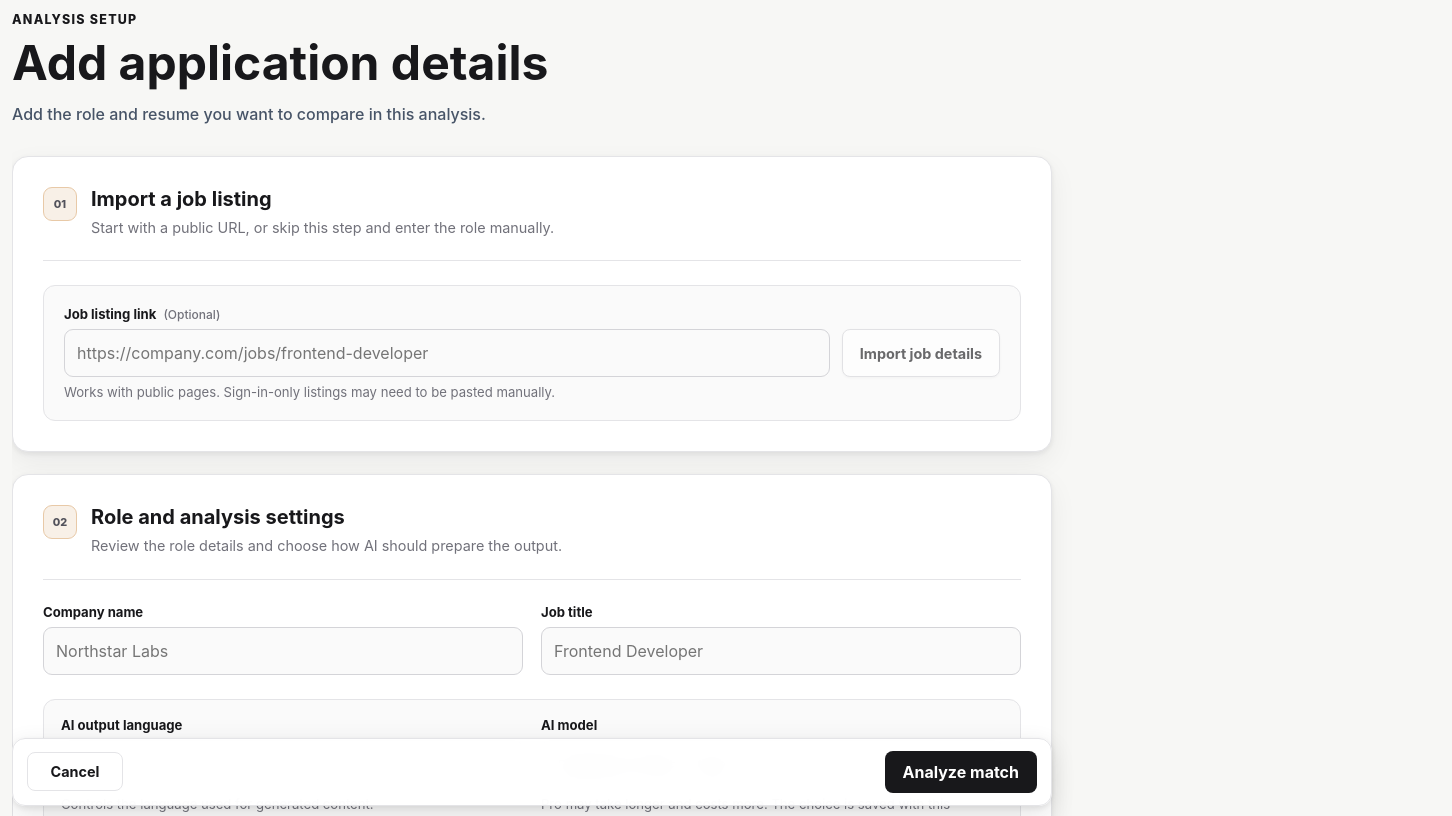
Scenario: NewApplicationPage › imports job details for review without starting an analysis
This screenshot has width=1452, height=816.
Check: the heading "Import a job listing" is shown, box x1=91 y1=187 x2=272 y2=211
Check: the heading "Role and analysis settings" is shown, box x1=91 y1=505 x2=345 y2=529
Type "https://jobs.example.com/frontend-developer" into the field labelled "Job listing link (Optional)" at (447, 353), box x1=64 y1=329 x2=830 y2=377
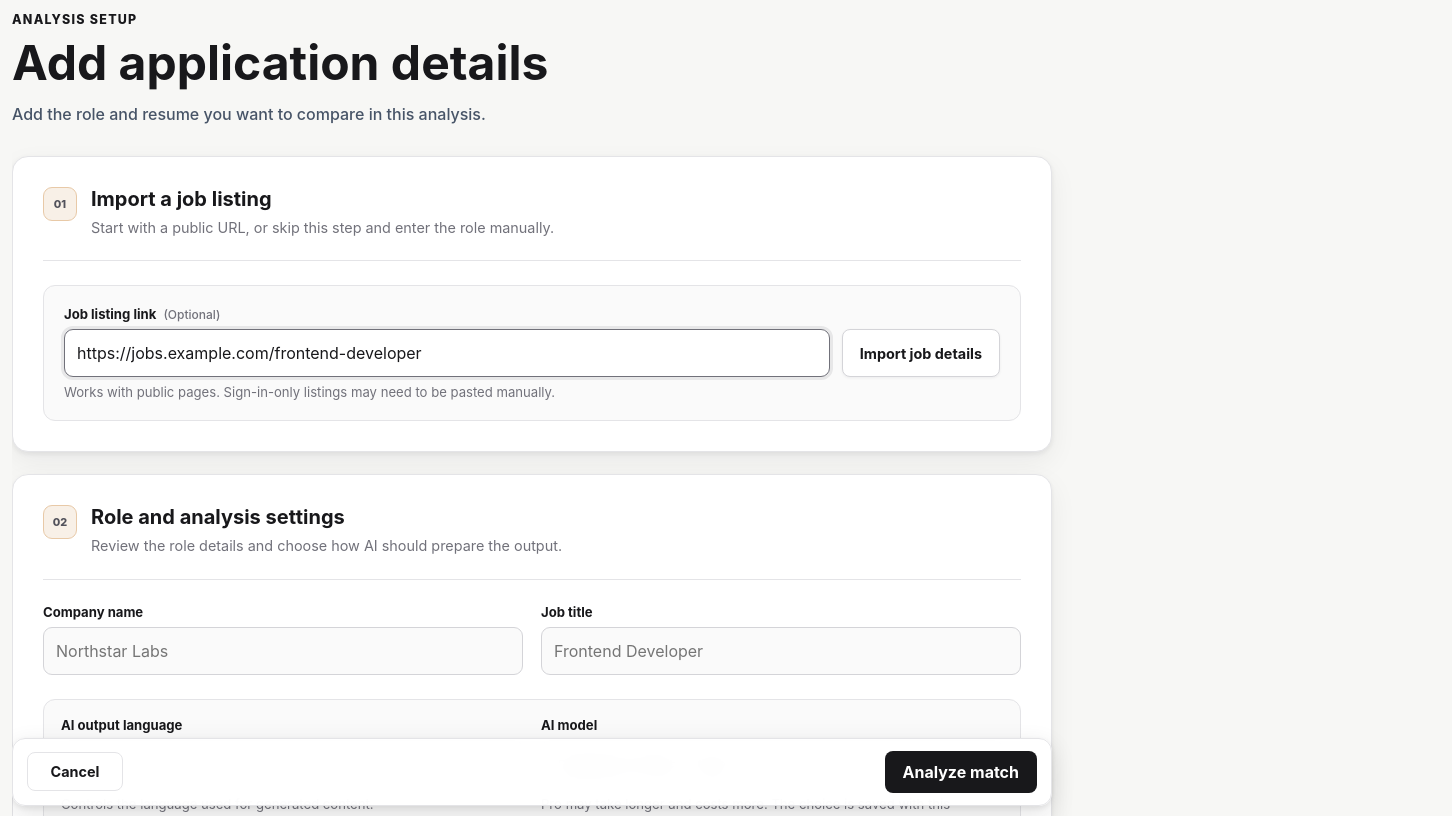
Click the button "Import job details" at (921, 353), box x1=842 y1=329 x2=1000 y2=377
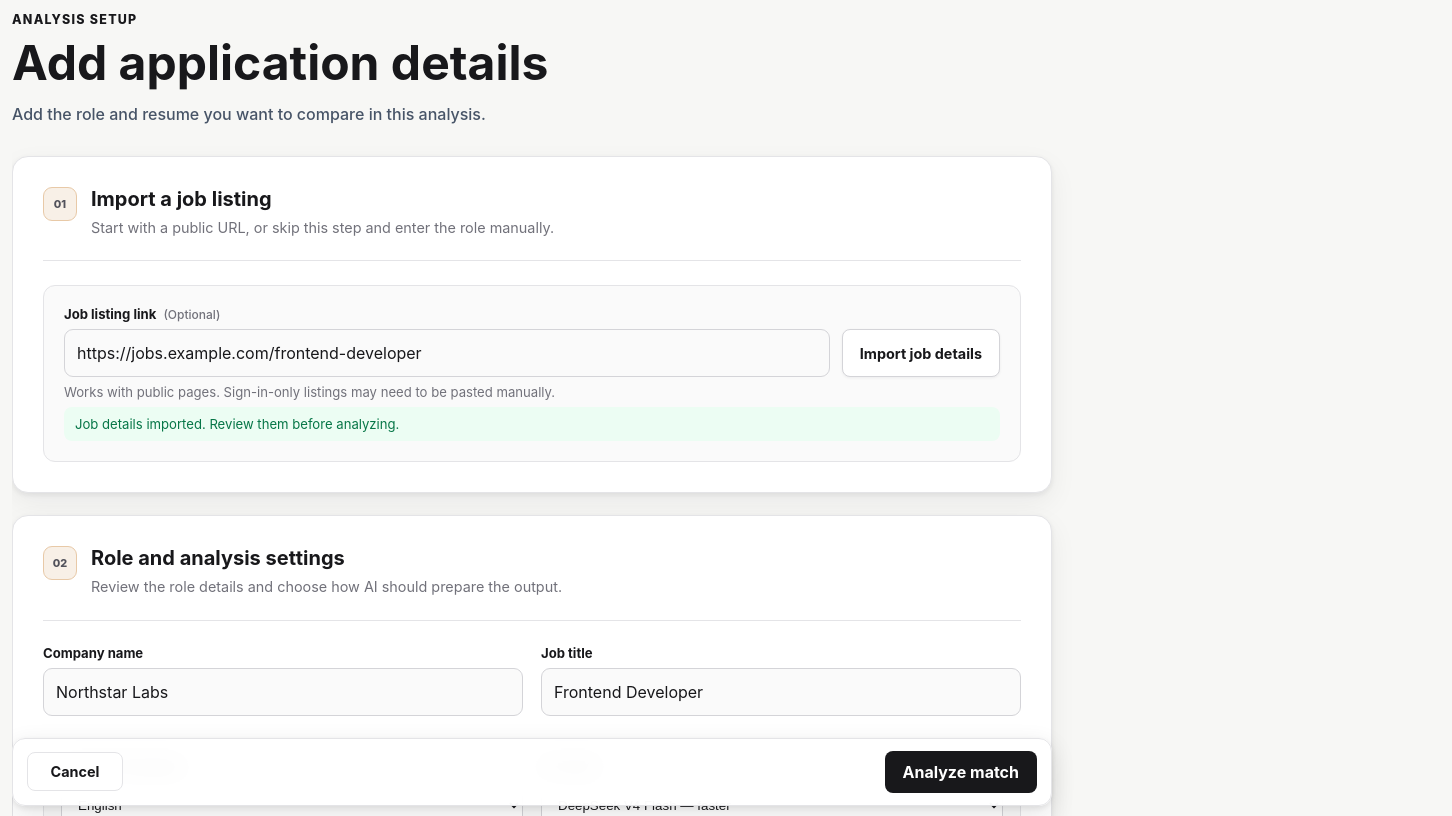
Check: the field showing "Northstar Labs" is shown, box x1=43 y1=668 x2=523 y2=716
Check: the message shows "Review them before analyzing", box x1=75 y1=416 x2=399 y2=432
